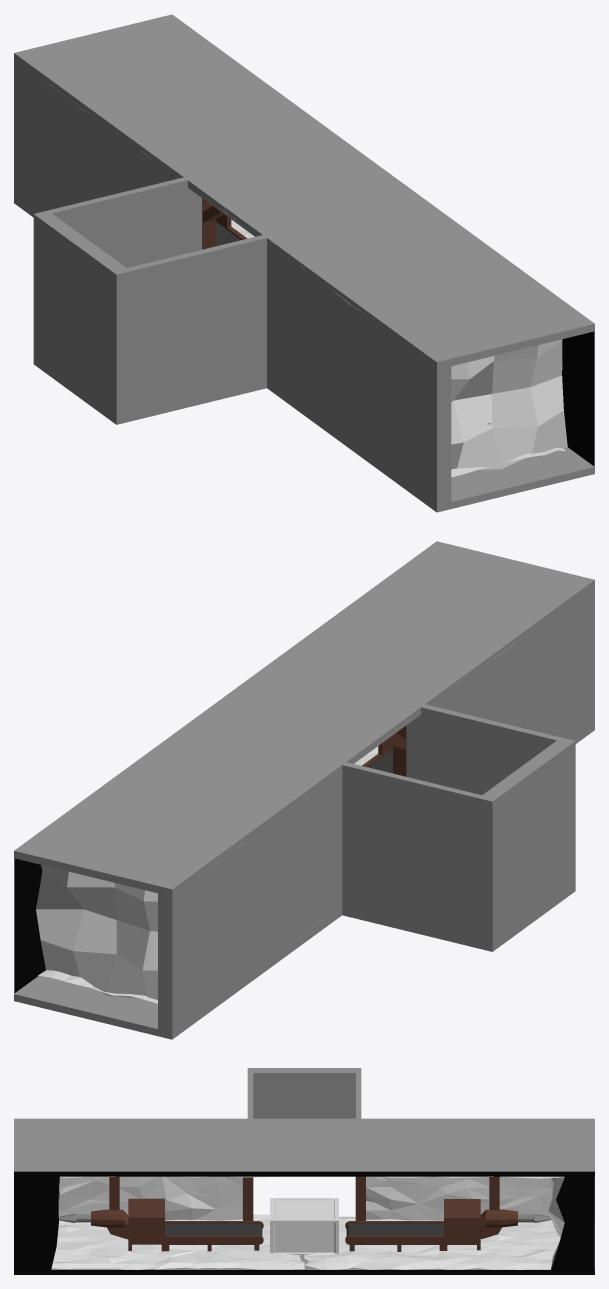
The model's file is mine_stufe1_0.7.fbx.
3 renders of one model, top to bottom at view 1: azimuth 30°, elevation 25°; view 2: azimuth 150°, elevation 25°; view 3: azimuth 270°, elevation 25°, orthographic. The views are drawn at different scales.
Visible parts, largest first — view 1: minenschacht_links, minenschacht_rechts, fahrstuhlschacht, rohstoffwand_links, abdeckung_rohstoffwand_links, stützpfeiler_rechts; view 2: minenschacht_rechts, minenschacht_links, fahrstuhlschacht, rohstoffwand_rechts, abdeckung_rohstoffwand_rechts, stützpfeiler_links; view 3: minenschacht_links, minenschacht_rechts, rohstoffboden_stufe1_rechts, rohstoffboden_stufe1_links, deko_stufe1_links(rohstoffwand), deko_stufe1_rechts(rohstoffwand), fahrstuhlschacht, abdeckung_rohstoffwand_links, Cube, abdeckung_rohstoffwand_rechts, laufband_stufe1_rechts, laufband_stufe1_links (+10 smaller).
Part boxes in pixels (x1,y1,x2,y2): minenschacht_links: (225, 169, 594, 512); minenschacht_rechts: (14, 14, 382, 252); fahrstuhlschacht: (33, 177, 266, 424); rohstoffwand_links: (451, 339, 567, 469); abdeckung_rohstoffwand_links: (562, 331, 594, 466); stützpfeiler_rechts: (202, 198, 223, 249); minenschacht_rechts: (14, 696, 383, 1039); minenschacht_links: (226, 541, 594, 779); fahrstuhlschacht: (342, 704, 575, 951); rohstoffwand_rechts: (36, 865, 157, 999); abdeckung_rohstoffwand_rechts: (14, 858, 45, 993); stützpfeiler_links: (385, 725, 406, 776); minenschacht_links: (14, 1118, 304, 1274); minenschacht_rechts: (304, 1118, 594, 1274); rohstoffboden_stufe1_rechts: (304, 1216, 560, 1269); rohstoffboden_stufe1_links: (51, 1214, 304, 1269); deko_stufe1_links(rohstoffwand): (58, 1176, 242, 1220); deko_stufe1_rechts(rohstoffwand): (366, 1176, 552, 1220); fahrstuhlschacht: (247, 1068, 361, 1118); abdeckung_rohstoffwand_links: (14, 1176, 59, 1269); Cube: (270, 1198, 338, 1255); abdeckung_rohstoffwand_rechts: (551, 1176, 594, 1269); laufband_stufe1_rechts: (345, 1221, 444, 1251); laufband_stufe1_links: (164, 1221, 263, 1251).
Size of the model in its own units: 430 by 200 by 1020.
